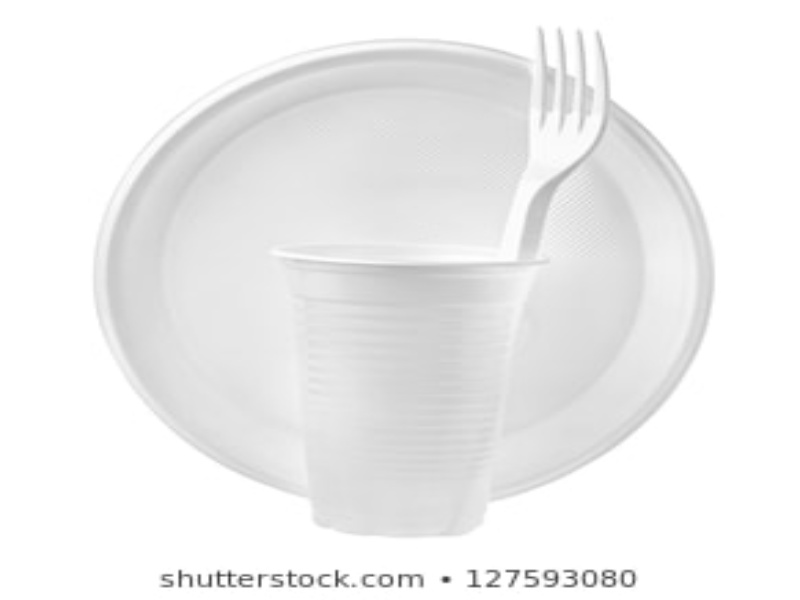plastic-cup: (273, 239, 528, 534)
plastic-plate: (93, 34, 714, 504)
plastic-silverware: (503, 25, 611, 256)
